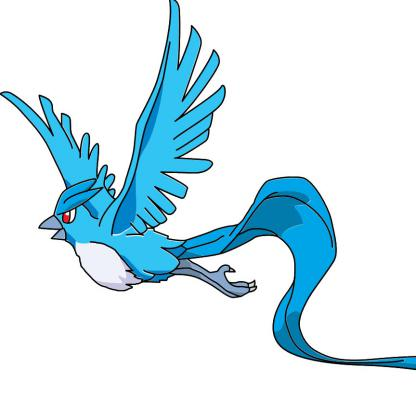Articuno: (1, 1, 416, 380)
